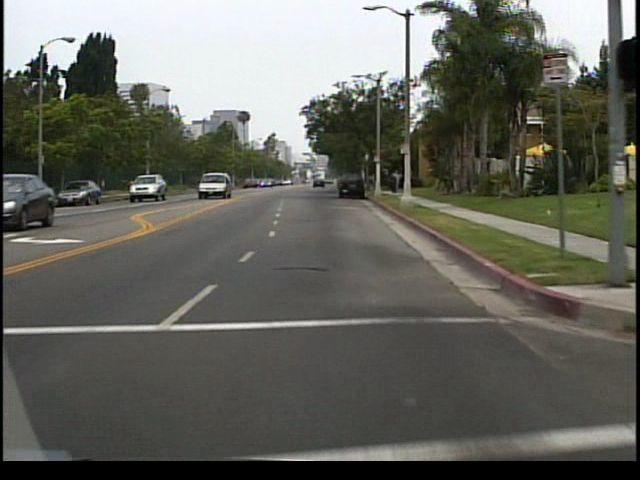person: (392, 169, 405, 197), (389, 173, 397, 193)
